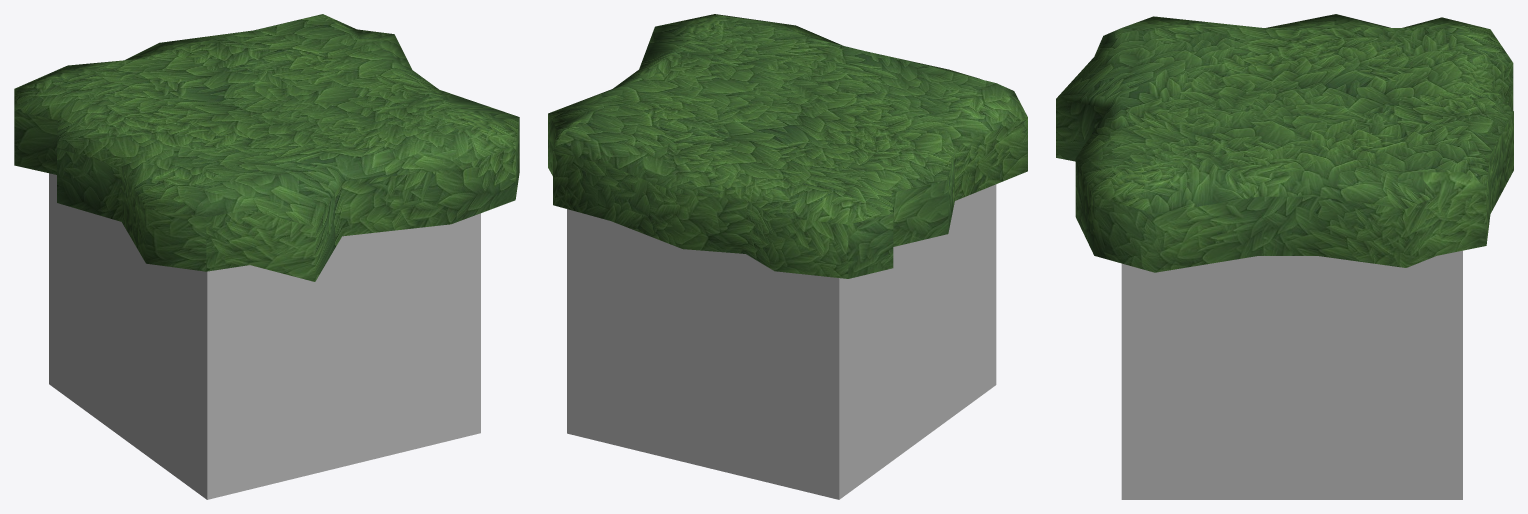
File: FBX_ForestGround.fbx
3 renders of one model, left to right at view 1: azimuth 30°, elevation 25°; view 2: azimuth 150°, elevation 25°; view 3: azimuth 270°, elevation 25°, orthographic. The views are drawn at different scales.
Visible parts, largest first — view 1: ForestGround; view 2: ForestGround; view 3: ForestGround.
Part boxes in pixels (left/top/right/bottom): ForestGround: left=14, top=14, right=519, bottom=499; ForestGround: left=548, top=14, right=1027, bottom=499; ForestGround: left=1056, top=14, right=1513, bottom=499.
Bounding box in the file's own units: 306 × 234 × 296.
